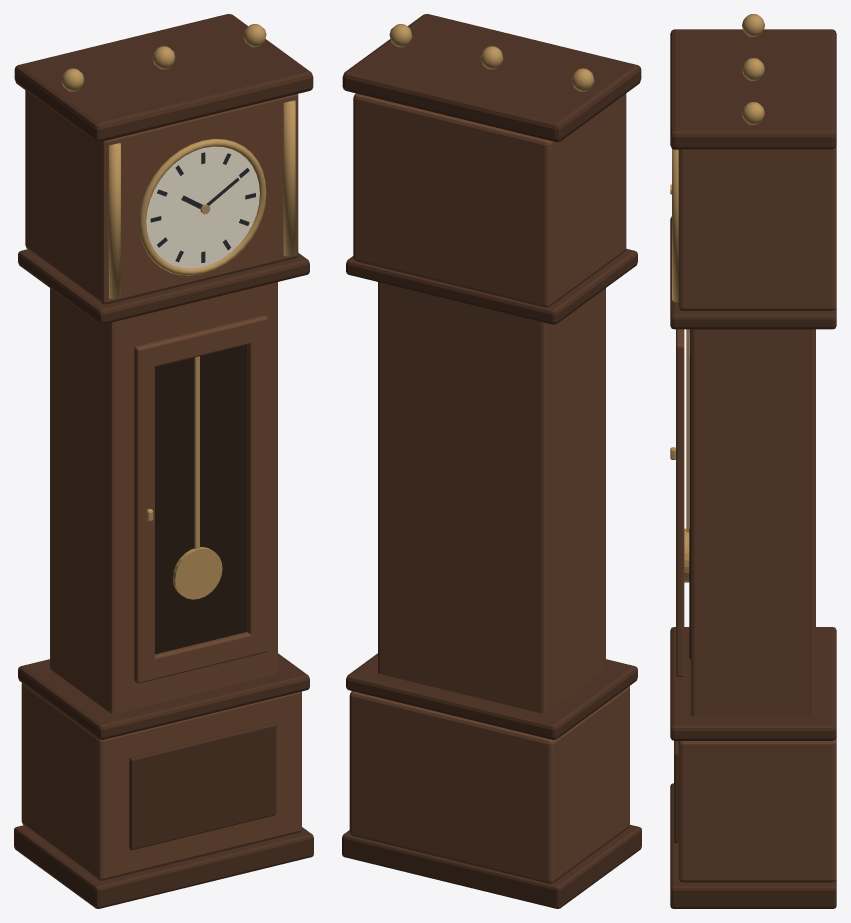
Rendered from grandfatherClock.glb.
The picture shows the model from 3 angles, left to right: view 1: azimuth 30°, elevation 25°; view 2: azimuth 150°, elevation 25°; view 3: azimuth 270°, elevation 25°; orthographic projection.
Visible parts, largest first — view 1: body, pendulum; view 2: body; view 3: body, pendulum.
Boxes of the visible parts, x1,y1,x2,y2 form: body: (14, 14, 313, 908); pendulum: (172, 356, 222, 599); body: (342, 14, 641, 908); body: (670, 14, 836, 908); pendulum: (684, 329, 689, 582).
Bounding box in the file's own units: 0.6 × 2.12 × 0.4.
